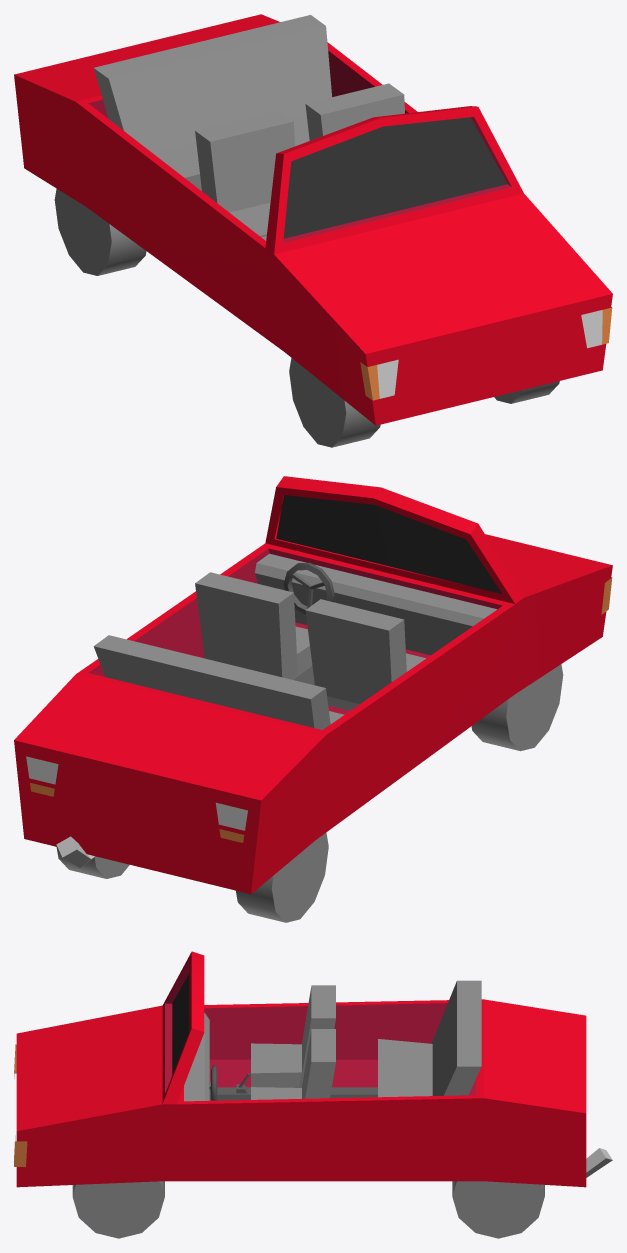
File: cabrio_04.fbx
3 views of the same model, one above another, from view 1: azimuth 30°, elevation 25°; view 2: azimuth 150°, elevation 25°; view 3: azimuth 270°, elevation 25° (orthographic). The views are drawn at different scales.
Parts seen in each view (by area): view 1: cabrio_04; view 2: cabrio_04; view 3: cabrio_04.
Boxes of the visible parts, x1,y1,x2,y2 form: cabrio_04: [14, 14, 612, 447]; cabrio_04: [14, 476, 612, 922]; cabrio_04: [14, 951, 612, 1238].
Bounding box in the file's own units: 1.6 × 1.63 × 4.1.
